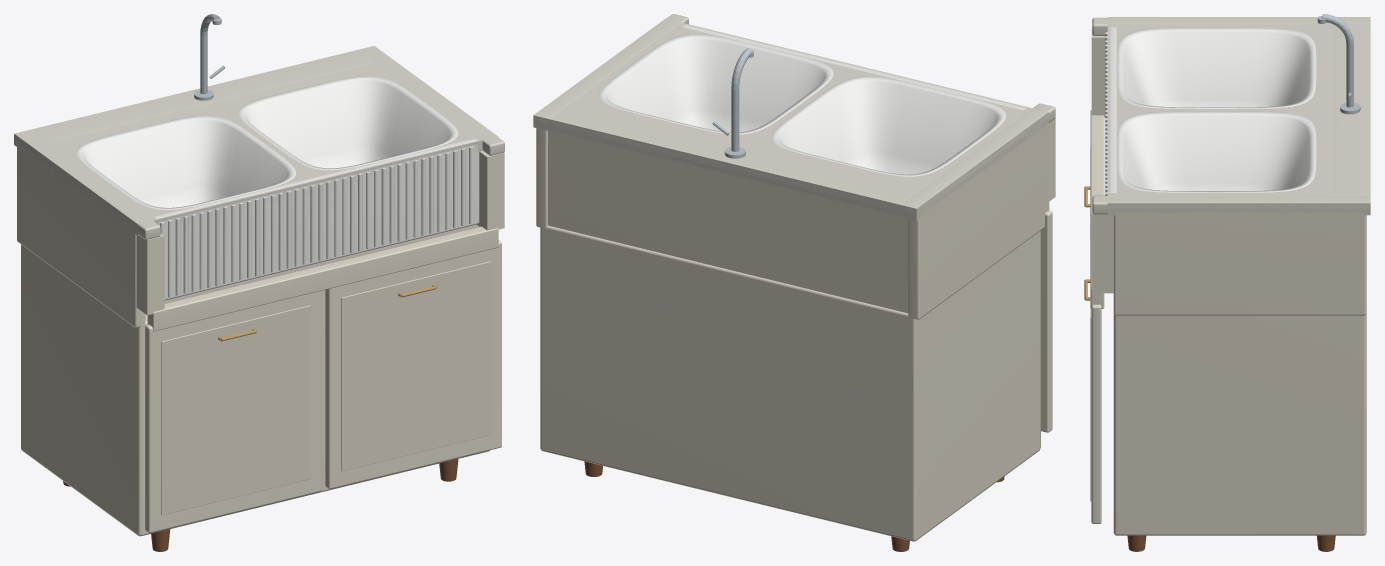
File: designed-sink-fluted.glb
3 renders of one model, left to right at view 1: azimuth 30°, elevation 25°; view 2: azimuth 150°, elevation 25°; view 3: azimuth 270°, elevation 25°, orthographic. The views are drawn at different scales.
Visible parts, largest first — view 1: catalog_surface_RealismUV, catalog_surface_UVMap; view 2: catalog_surface_RealismUV, catalog_surface_UVMap; view 3: catalog_surface_RealismUV, catalog_surface_UVMap.
Part boxes in pixels (x1=…): catalog_surface_RealismUV: x1=17, y1=14, x2=504, y2=551; catalog_surface_UVMap: x1=14, y1=46, x2=504, y2=239; catalog_surface_RealismUV: x1=536, y1=24, x2=1055, y2=551; catalog_surface_UVMap: x1=533, y1=14, x2=1055, y2=220; catalog_surface_RealismUV: x1=1084, y1=14, x2=1366, y2=551; catalog_surface_UVMap: x1=1092, y1=17, x2=1370, y2=215.
Bounding box in the file's own units: 1 × 1.15 × 0.65.
